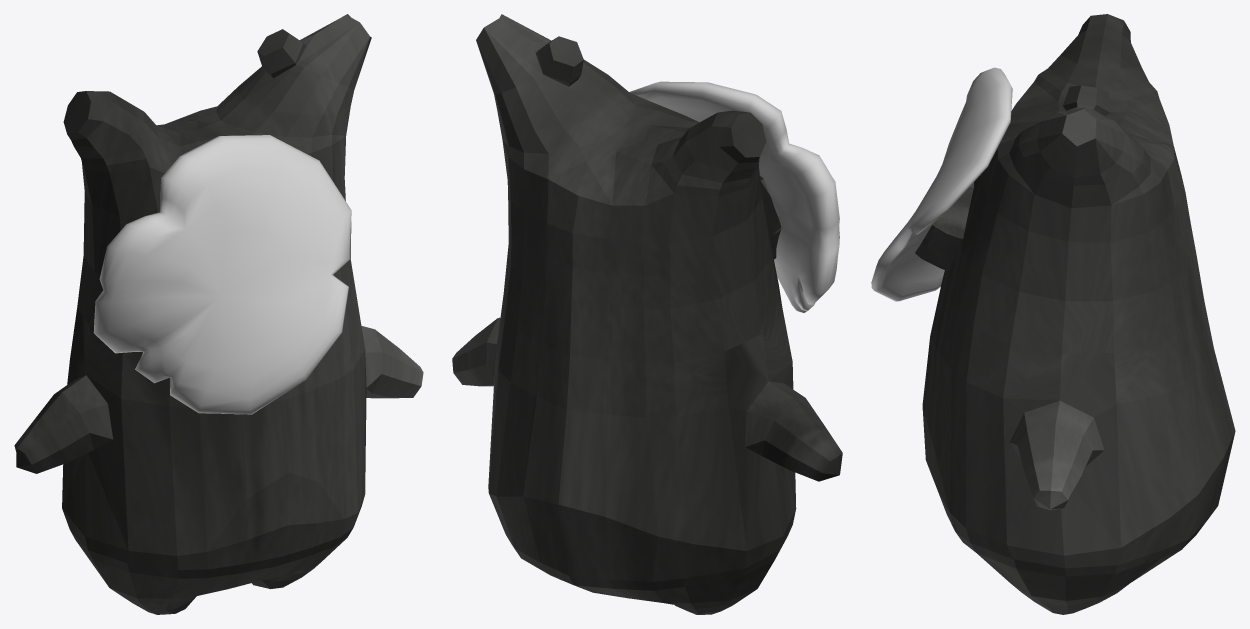
Rendered from frame_0088.obj.
The picture shows the model from 3 angles, left to right: view 1: azimuth 30°, elevation 25°; view 2: azimuth 150°, elevation 25°; view 3: azimuth 270°, elevation 25°; orthographic projection. The views are drawn at different scales.
Parts seen in each view (by area): view 1: korok, leaf; view 2: korok, leaf, nose; view 3: korok, leaf, nose.
Boxes of the visible parts, box(x1,y1,x2,y2) form: korok: box(14, 14, 423, 614); leaf: box(93, 135, 351, 414); korok: box(452, 14, 842, 614); leaf: box(629, 81, 839, 312); nose: box(760, 176, 781, 259); korok: box(922, 14, 1235, 614); leaf: box(871, 67, 1012, 301); nose: box(915, 182, 973, 271).
Bounding box in the file's own units: 1.68 × 2.23 × 1.36.
